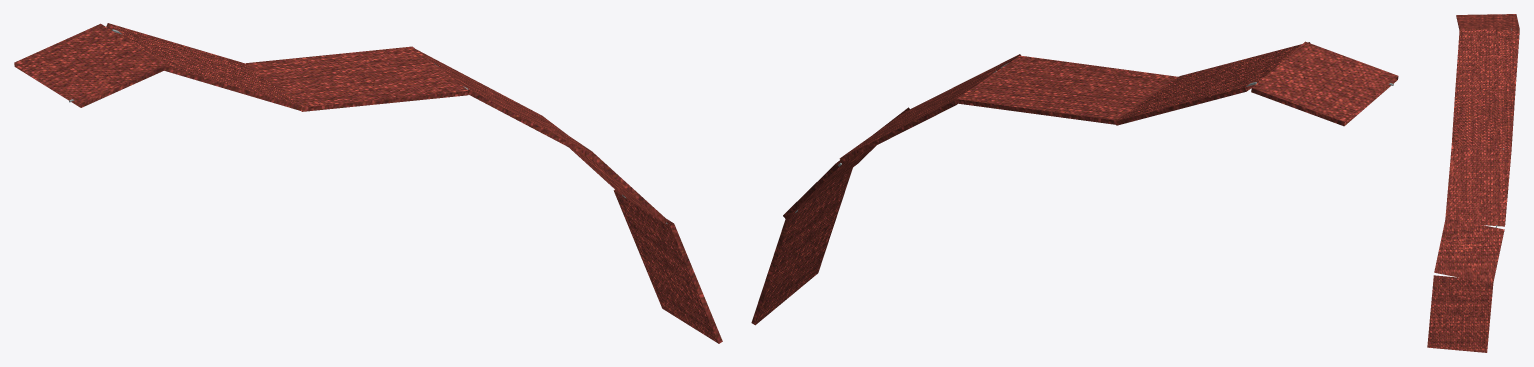
File: flex_berth_tail.fbx
3 renders of one model, left to right at view 1: azimuth 30°, elevation 25°; view 2: azimuth 150°, elevation 25°; view 3: azimuth 270°, elevation 25°, orthographic. The views are drawn at different scales.
Visible parts, largest first — view 1: SM_flex_berth_tail; view 2: SM_flex_berth_tail; view 3: SM_flex_berth_tail.
Boxes of the visible parts, x1,y1,x2,y2 form: SM_flex_berth_tail: [14, 23, 722, 343]; SM_flex_berth_tail: [751, 41, 1398, 325]; SM_flex_berth_tail: [1427, 14, 1519, 352].
Size of the model in its own units: 0.2215 by 0.1332 by 0.0569.
2 materials, 2 textured.
